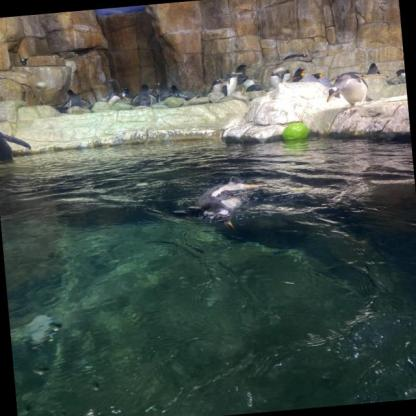penguin: (172, 177, 268, 233), (324, 71, 371, 112), (0, 114, 33, 167), (57, 87, 92, 115), (130, 83, 157, 107), (163, 82, 194, 102), (223, 70, 244, 92), (103, 90, 127, 108), (233, 63, 250, 87), (205, 78, 225, 97), (307, 71, 323, 84), (294, 67, 307, 81), (280, 68, 293, 82), (270, 72, 280, 89), (368, 62, 380, 74), (396, 67, 405, 77)
